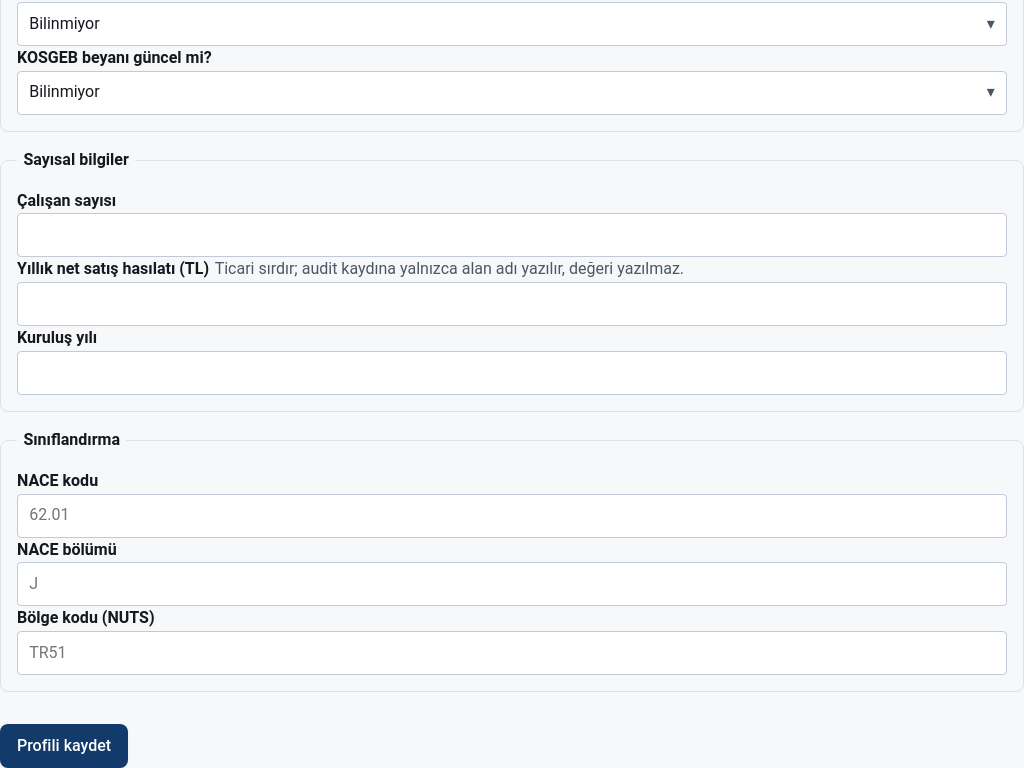
a demo write is refused in words rather than faked › refuses the profile save and says why
(page scrolled)
Click the button "Profili kaydet". click: (64, 746)
box: 0,724 -> 128,767
(page scrolled)
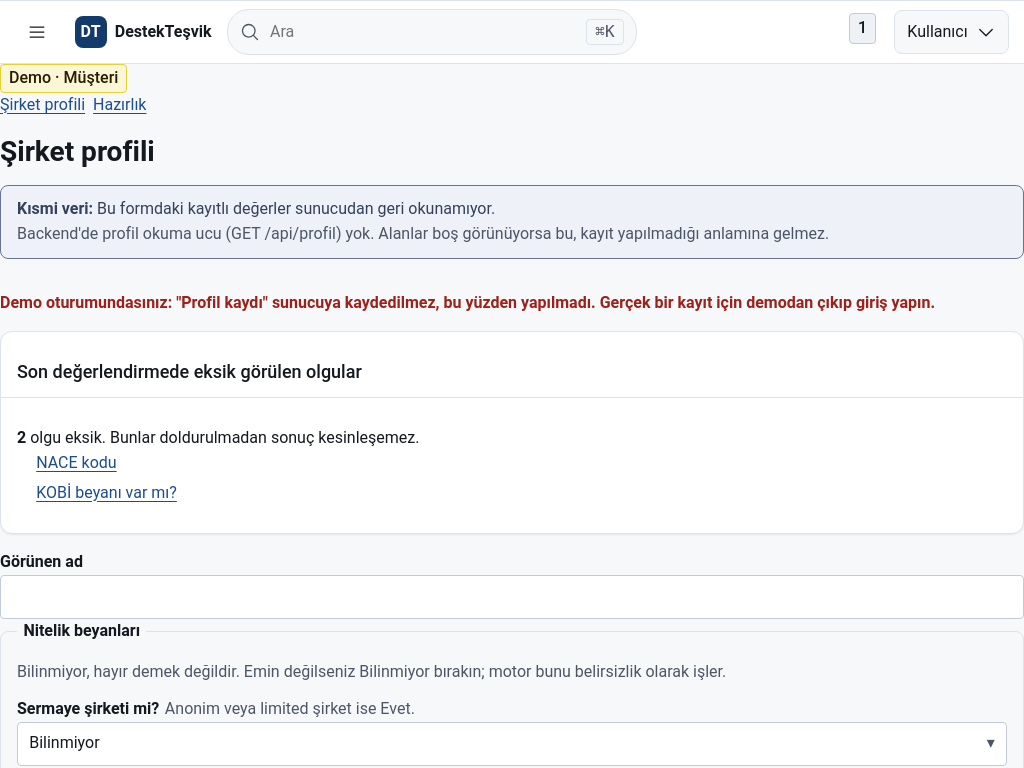
Expected: the message shows "Demo", 0,293 -> 935,312
